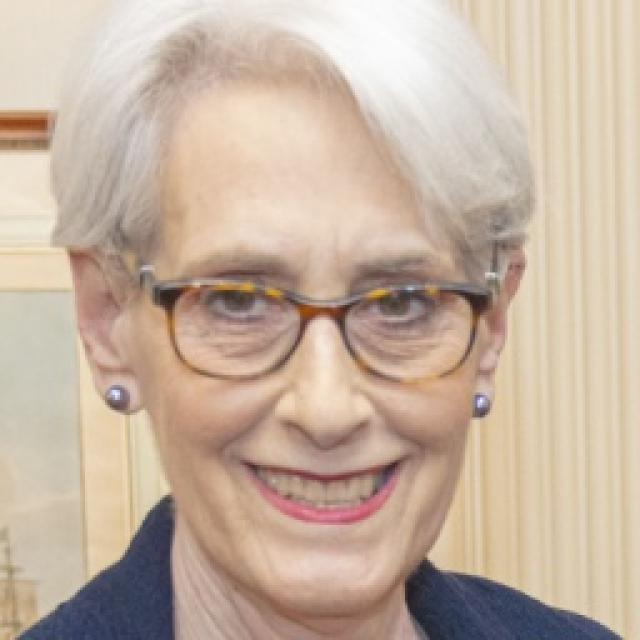glasses: (119, 242, 518, 392)
